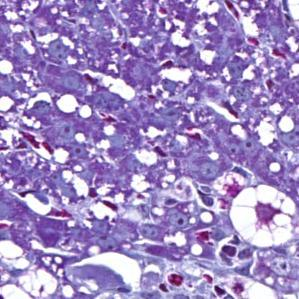ballooning: (229, 183, 298, 250), (2, 238, 59, 296)
